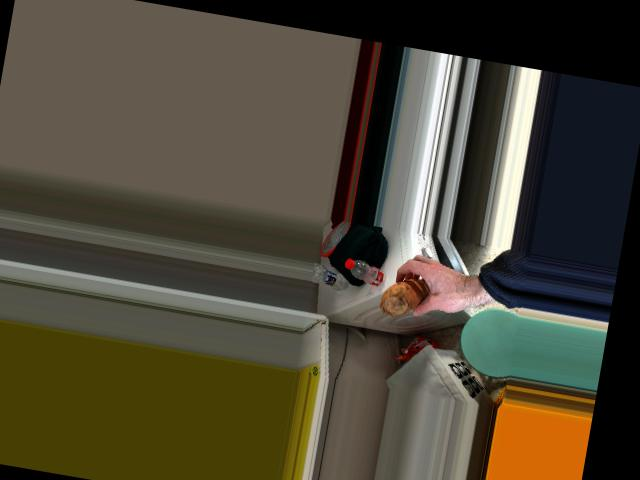sweet_potato: (377, 273, 431, 320)
